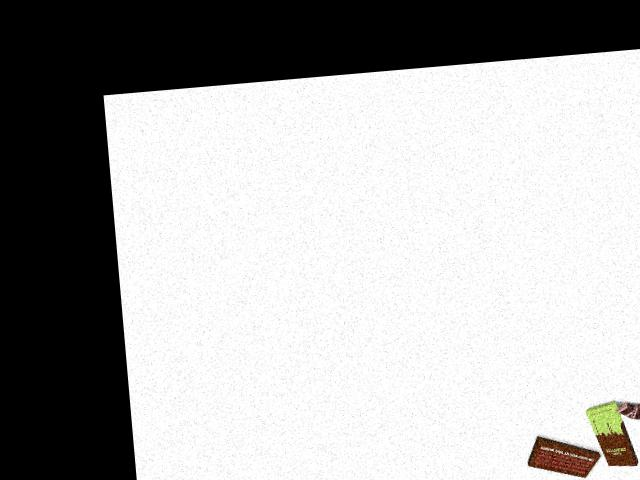chocolate: (588, 397, 633, 470)
